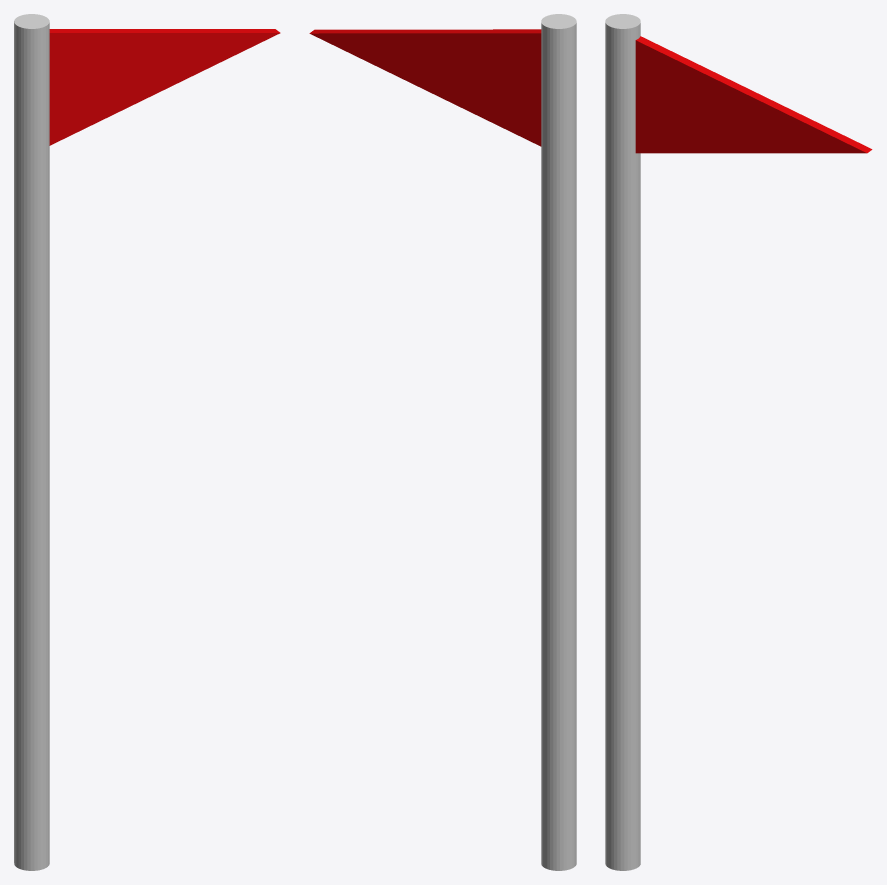
The model's file is flagPole.fbx.
3 renders of one model, left to right at view 1: azimuth 30°, elevation 25°; view 2: azimuth 150°, elevation 25°; view 3: azimuth 330°, elevation 25°, orthographic.
Visible parts, largest first — view 1: Cylinder.001, Plane; view 2: Cylinder.001, Plane; view 3: Cylinder.001, Plane.
Part boxes in pixels (x1,y1,x2,y2): Cylinder.001: (14, 14, 49, 870); Plane: (49, 29, 280, 145); Cylinder.001: (541, 14, 576, 870); Plane: (309, 29, 541, 146); Cylinder.001: (605, 14, 640, 870); Plane: (635, 36, 872, 153).
Size of the model in its own units: 150 by 461 by 17.67.
